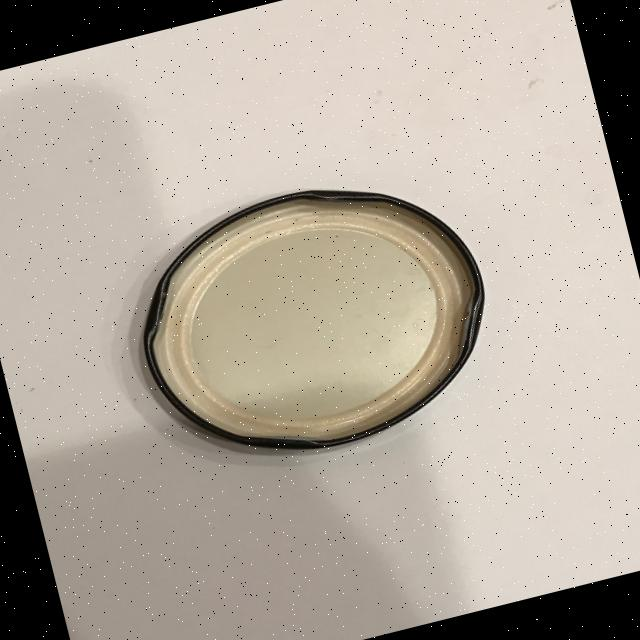metal: (114, 151, 514, 486)
